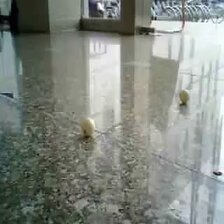w: (80, 116, 95, 137), (178, 89, 190, 103)
